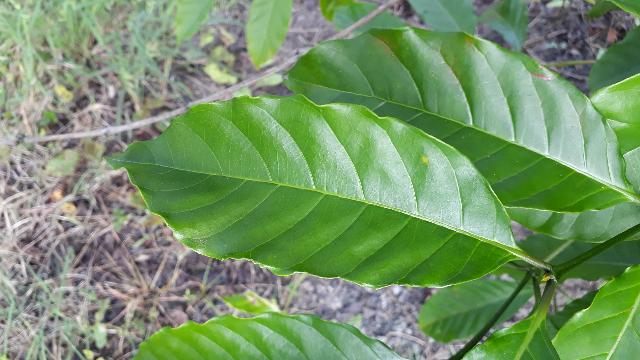rust_level_1: (126, 74, 535, 262)
